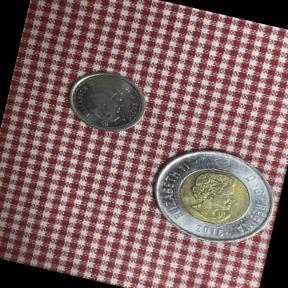Canada-10cent-B: (57, 60, 155, 142)
Canada-2Dollar-B: (135, 134, 286, 260)
